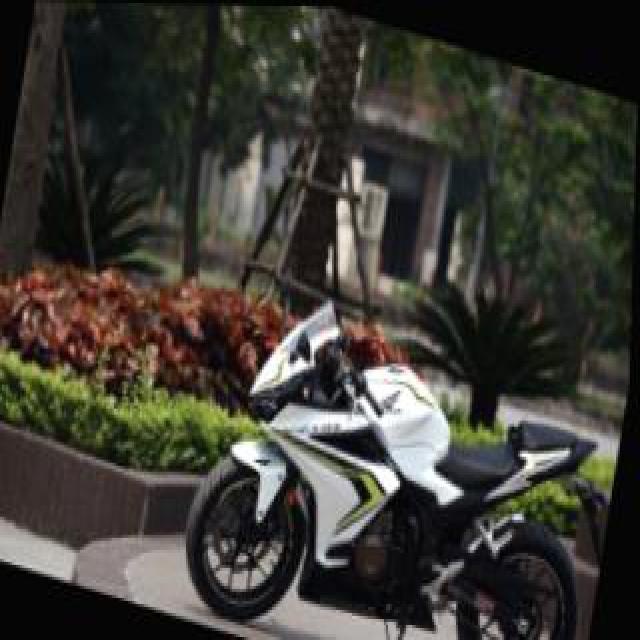CBR500R: (186, 264, 626, 637)
